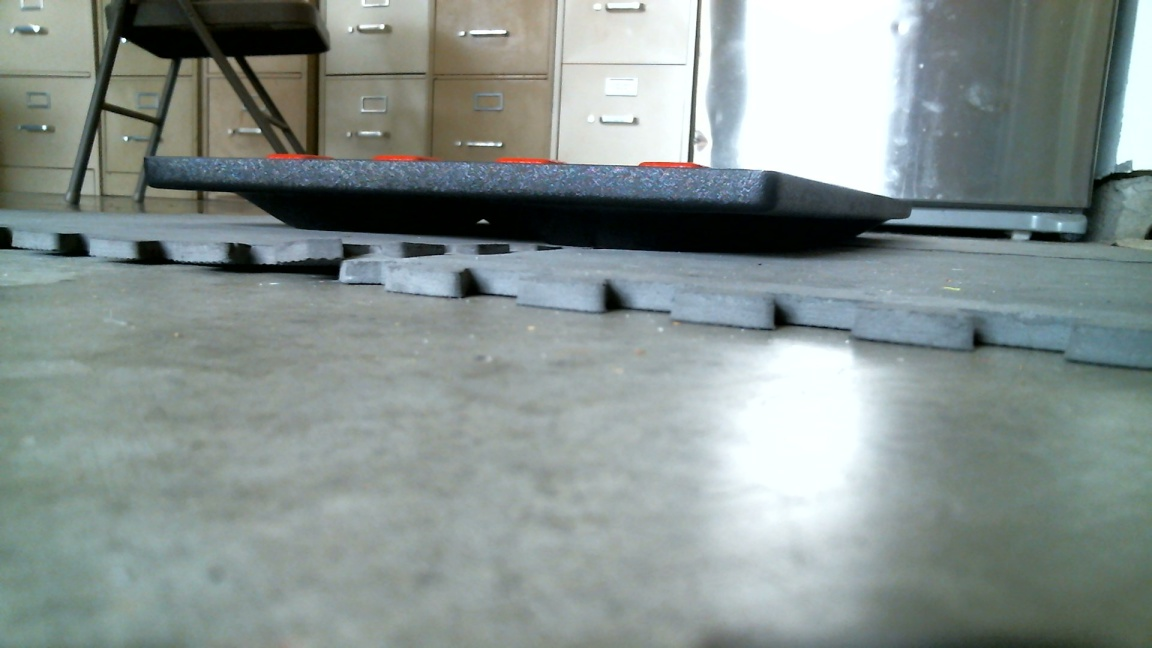red_foundation: (144, 150, 912, 251)
